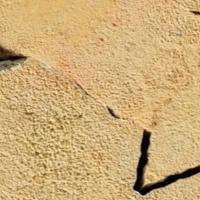crack: (0, 40, 199, 199)
